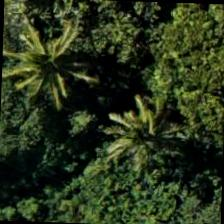Kelapa_Sawit: (11, 19, 104, 112), (96, 88, 190, 180)
